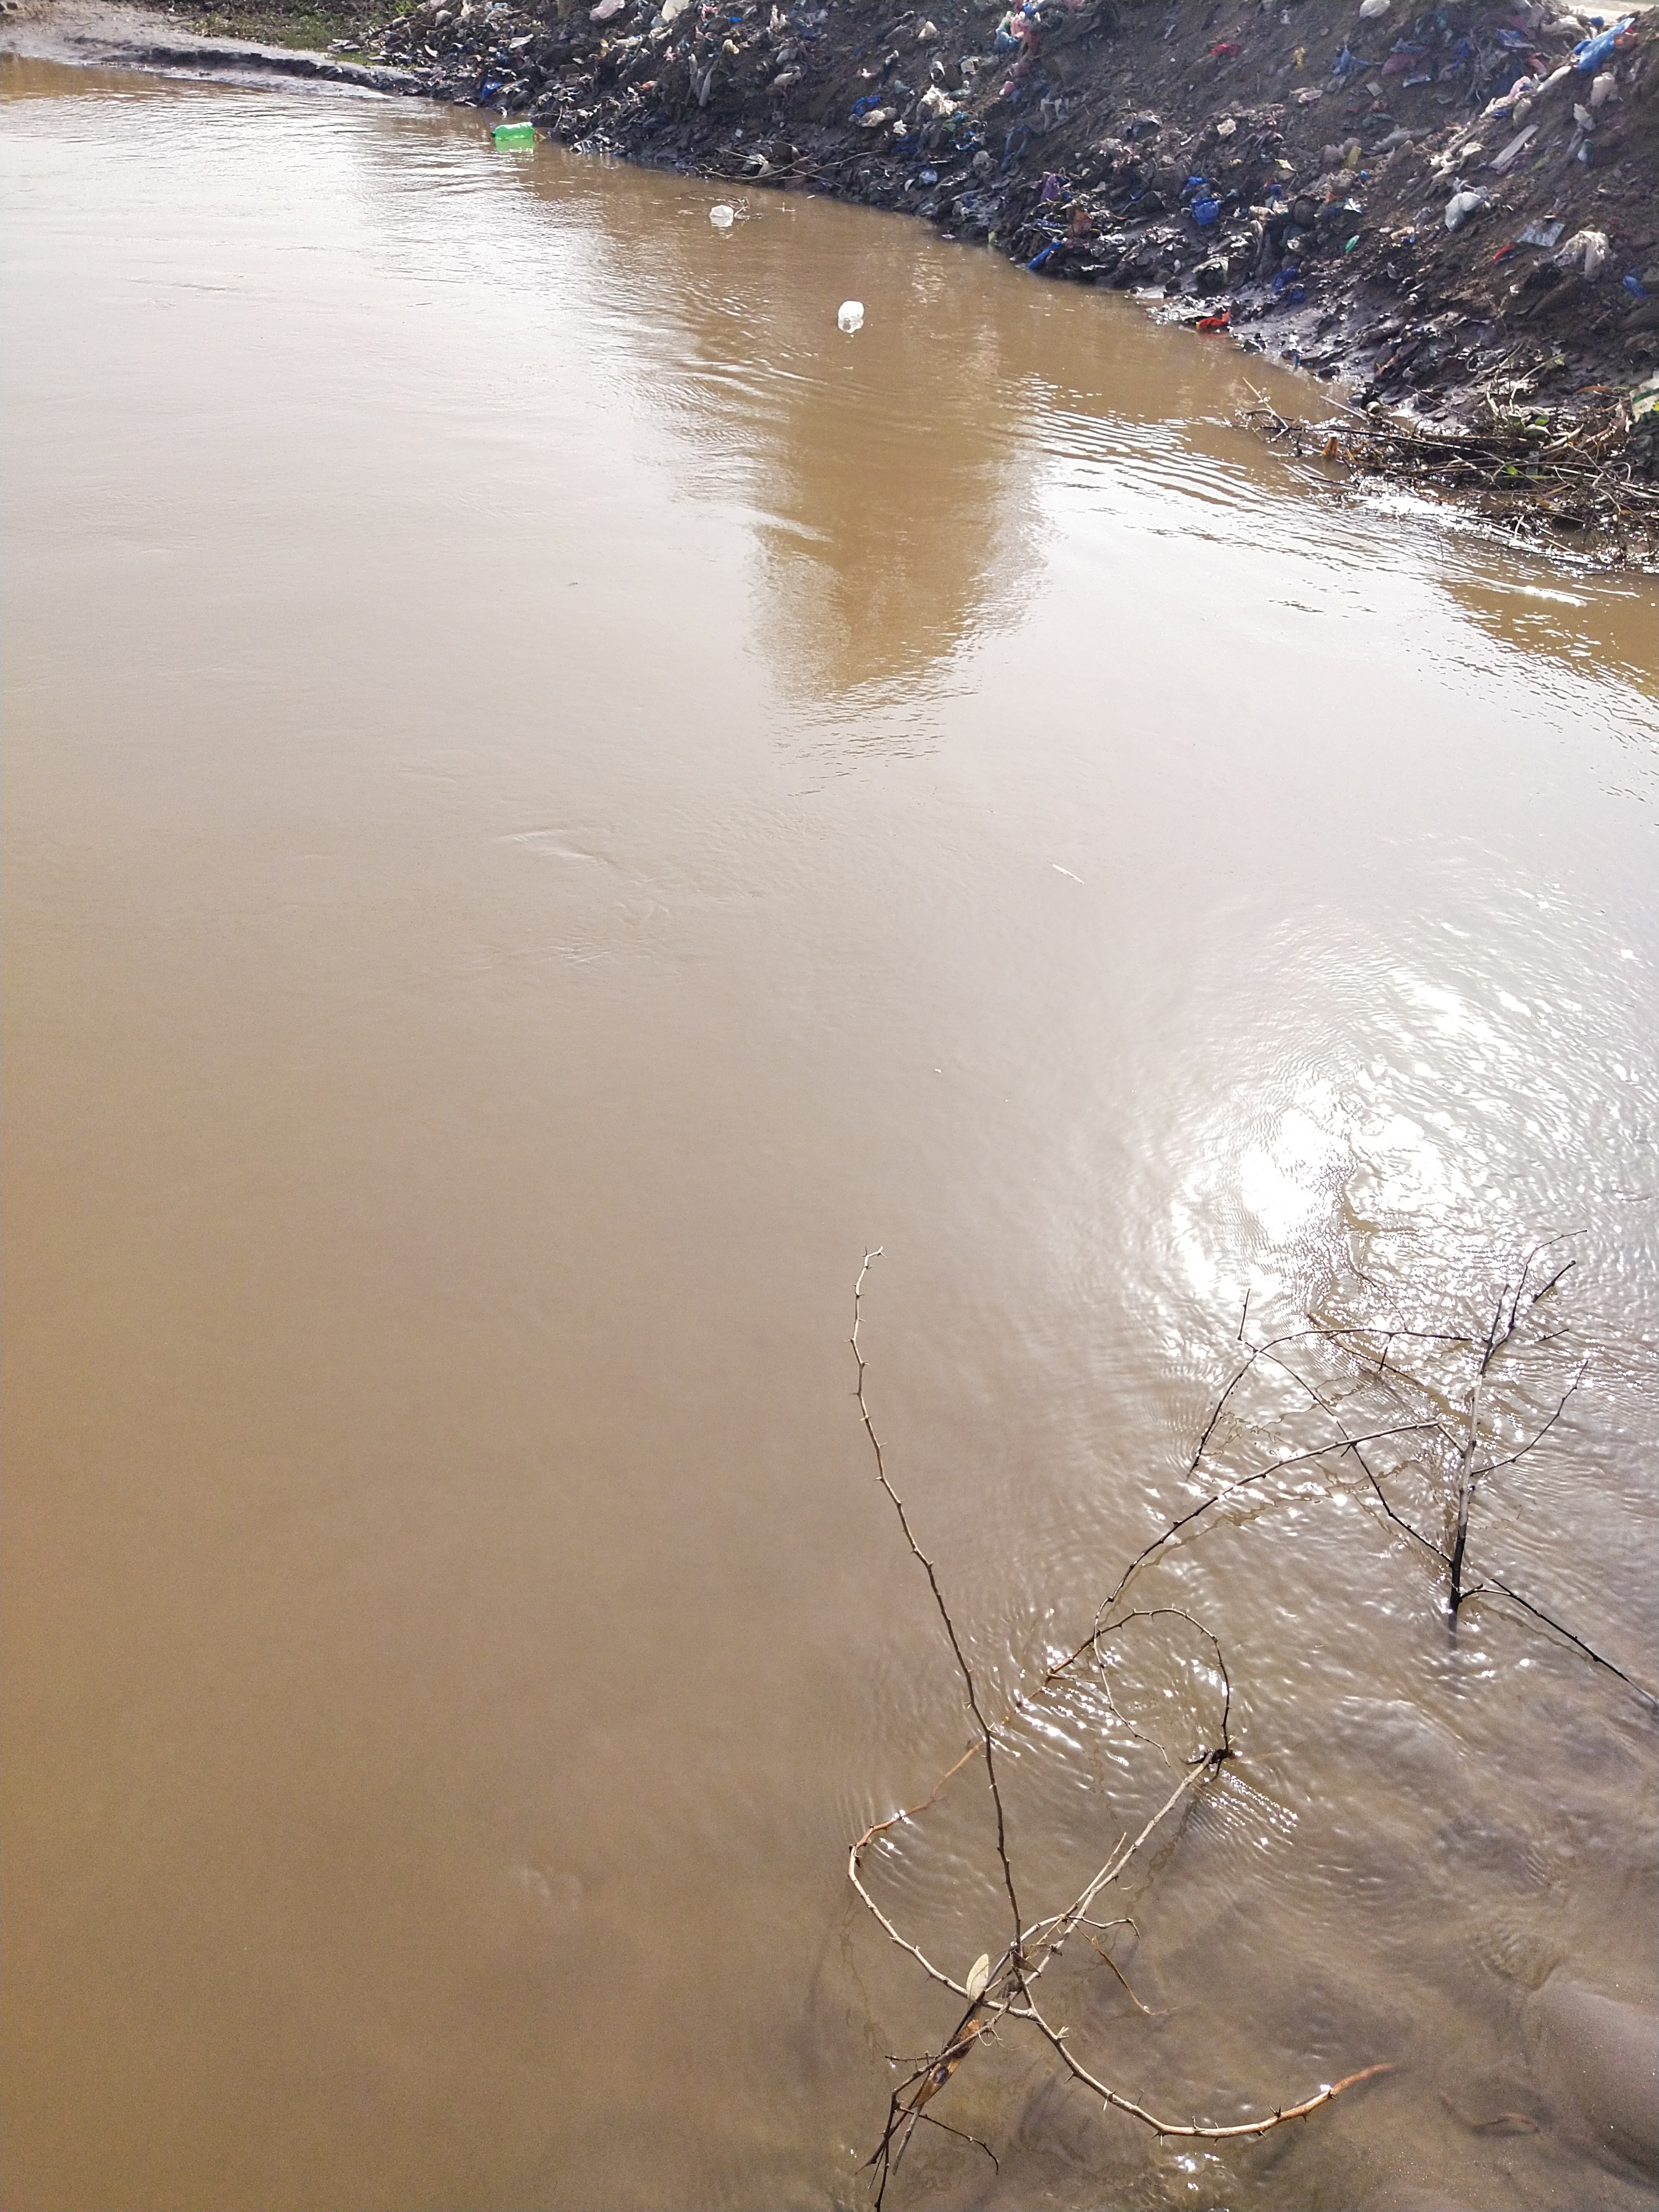Plastic Bottle: (490, 122, 535, 139), (836, 300, 863, 324)
